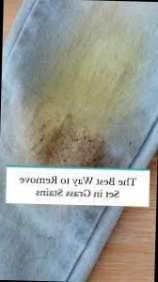earth: (26, 31, 142, 166)
